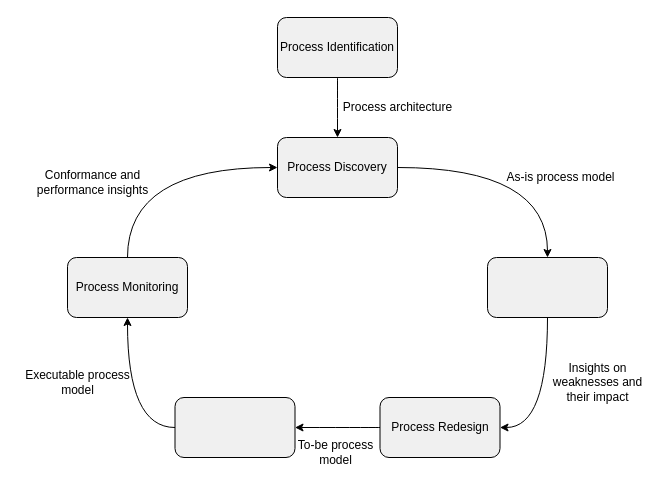
Image size: 664x485. Some labels were removed from this diagram. The box of each missing label's shape, as (x1, y1, x2, y2) in pixels:
Process Analysis: (486, 256, 608, 318)
Process Implementation: (174, 396, 295, 458)
